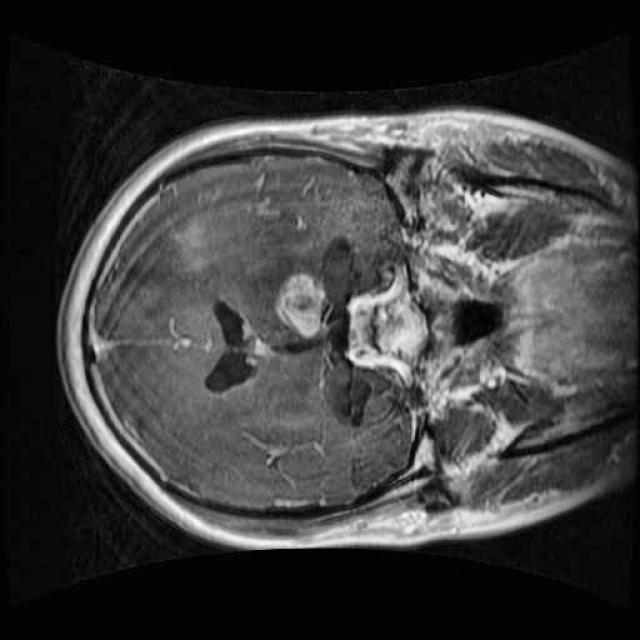Non-Tumor: (264, 258, 340, 352)
